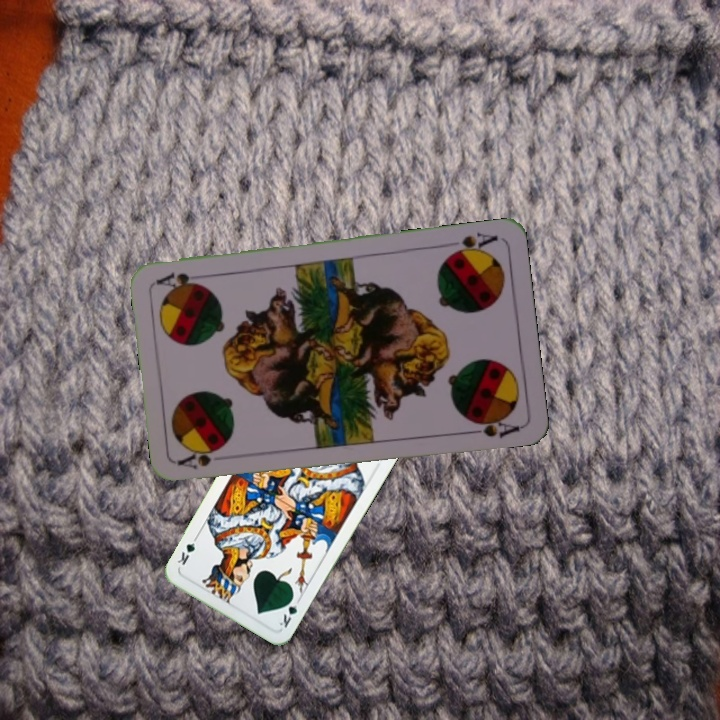GK: (275, 592, 303, 631)
SA: (444, 228, 500, 259), (175, 446, 223, 471)
